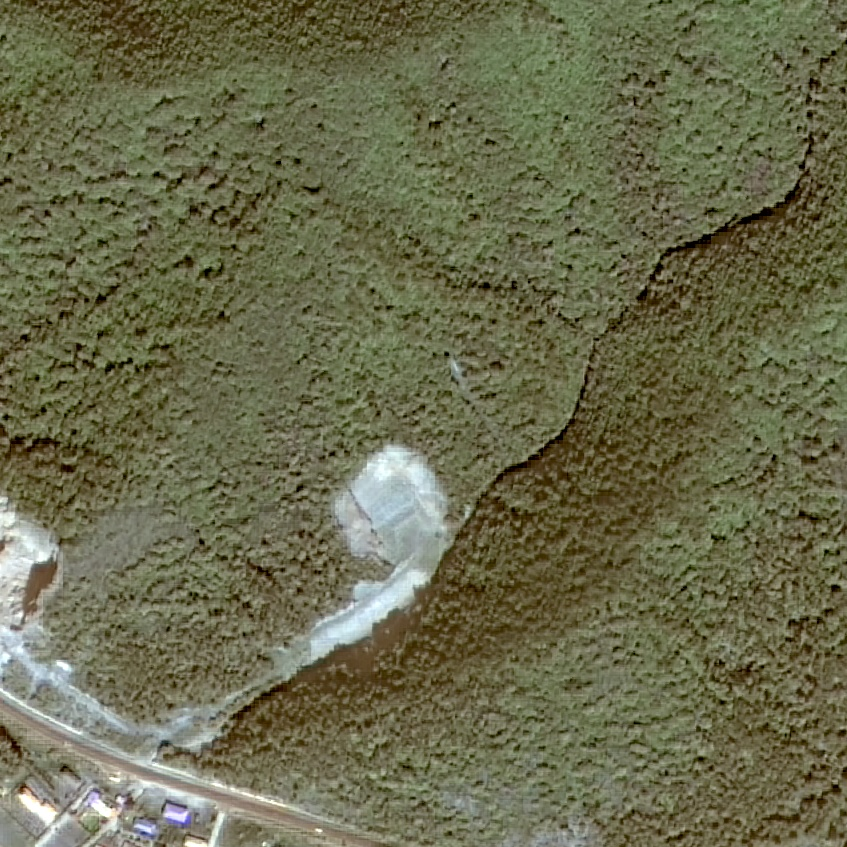slope: (280, 434, 472, 679), (0, 501, 69, 681)
